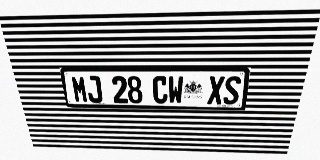2: (111, 76, 128, 103)
8: (127, 76, 143, 103)
C: (152, 76, 168, 104)
J: (85, 76, 103, 103)
M: (71, 76, 89, 103)
S: (223, 76, 241, 104)
W: (168, 76, 183, 104)
X: (207, 76, 225, 104)
